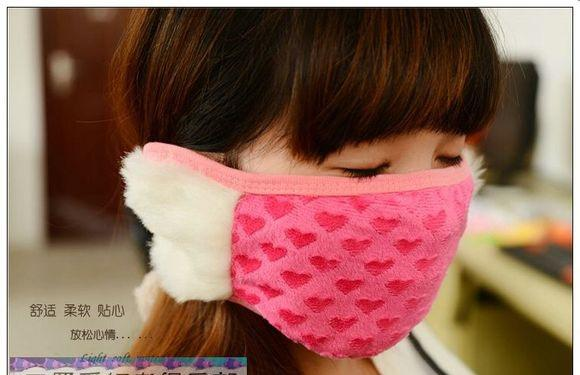OK: (222, 95, 467, 340)
